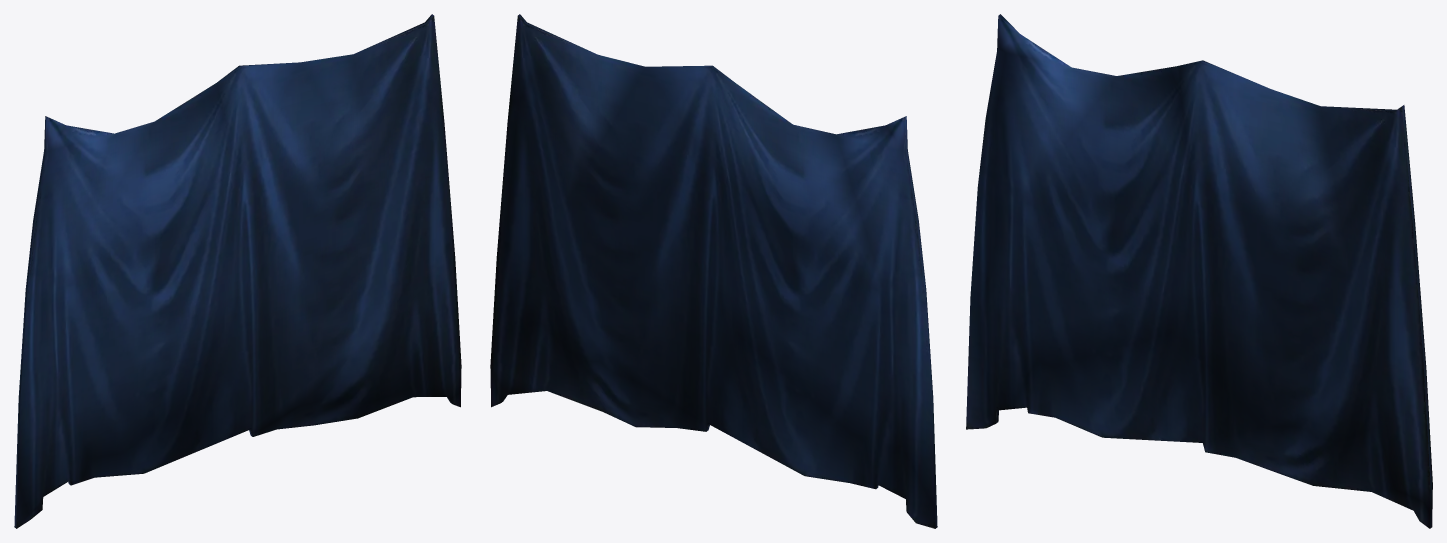
The model's file is KM_VOB_CURTAIN_03.glb.
3 renders of one model, left to right at view 1: azimuth 30°, elevation 25°; view 2: azimuth 150°, elevation 25°; view 3: azimuth 330°, elevation 25°, orthographic. The views are drawn at different scales.
Parts seen in each view (by area): view 1: Mesh; view 2: Mesh; view 3: Mesh.
Boxes of the visible parts, box(x1,y1,x2,y2) form: Mesh: box(14, 14, 461, 528); Mesh: box(490, 14, 937, 528); Mesh: box(966, 14, 1432, 528).
Bounding box in the file's own units: 2.6 × 2.3 × 0.1053.
Materials: 1 (1 with a texture image).
